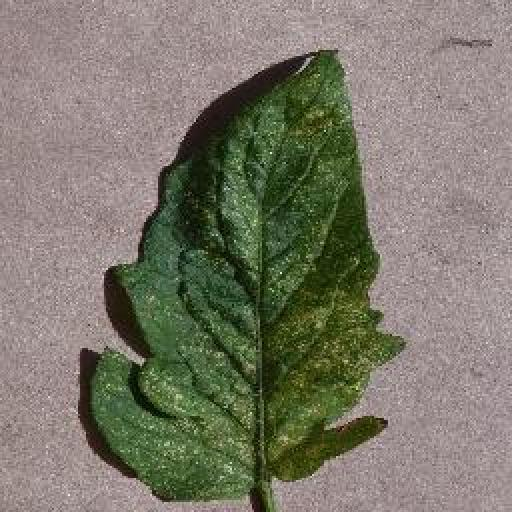Spider Mites: (89, 50, 404, 502)
